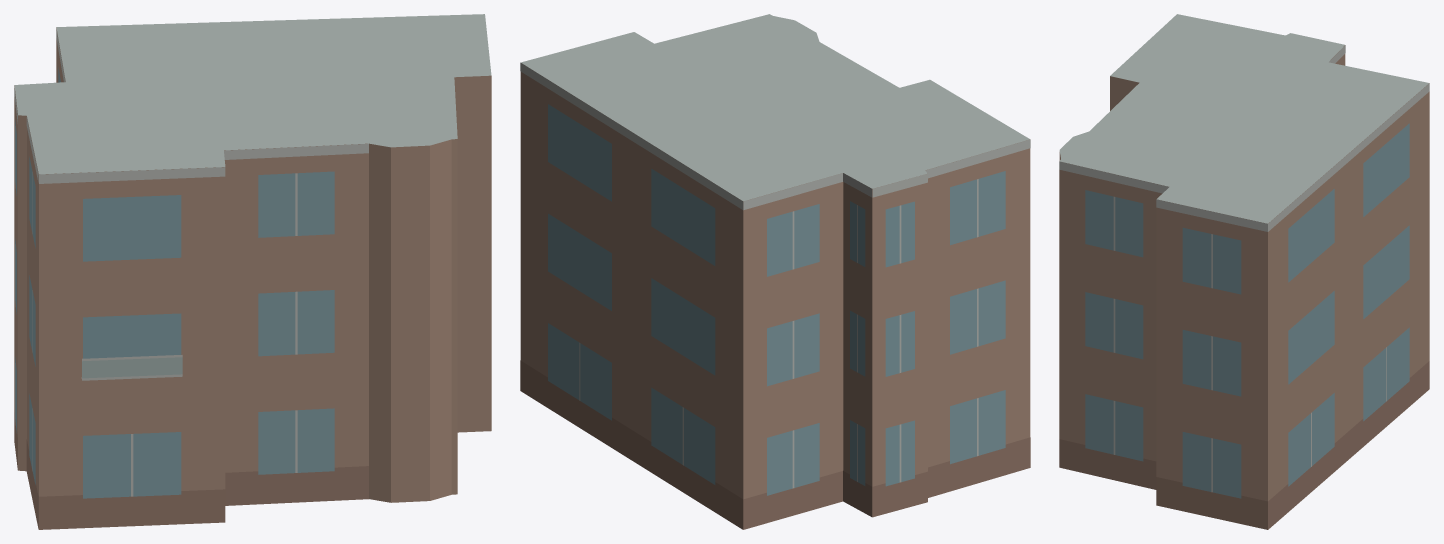
File: survey-upis-32630308.glb
3 renders of one model, left to right at view 1: azimuth 30°, elevation 25°; view 2: azimuth 150°, elevation 25°; view 3: azimuth 270°, elevation 25°, orthographic. The views are drawn at different scales.
Visible parts, largest first — view 1: survey-upis-32630308.tmp; view 2: survey-upis-32630308.tmp; view 3: survey-upis-32630308.tmp.
Part boxes in pixels (left/top/right/bottom): survey-upis-32630308.tmp: left=14, top=14, right=491, bottom=529; survey-upis-32630308.tmp: left=520, top=14, right=1030, bottom=529; survey-upis-32630308.tmp: left=1059, top=14, right=1429, bottom=529.
Size of the model in its own units: 13.23 by 9 by 9.87.
